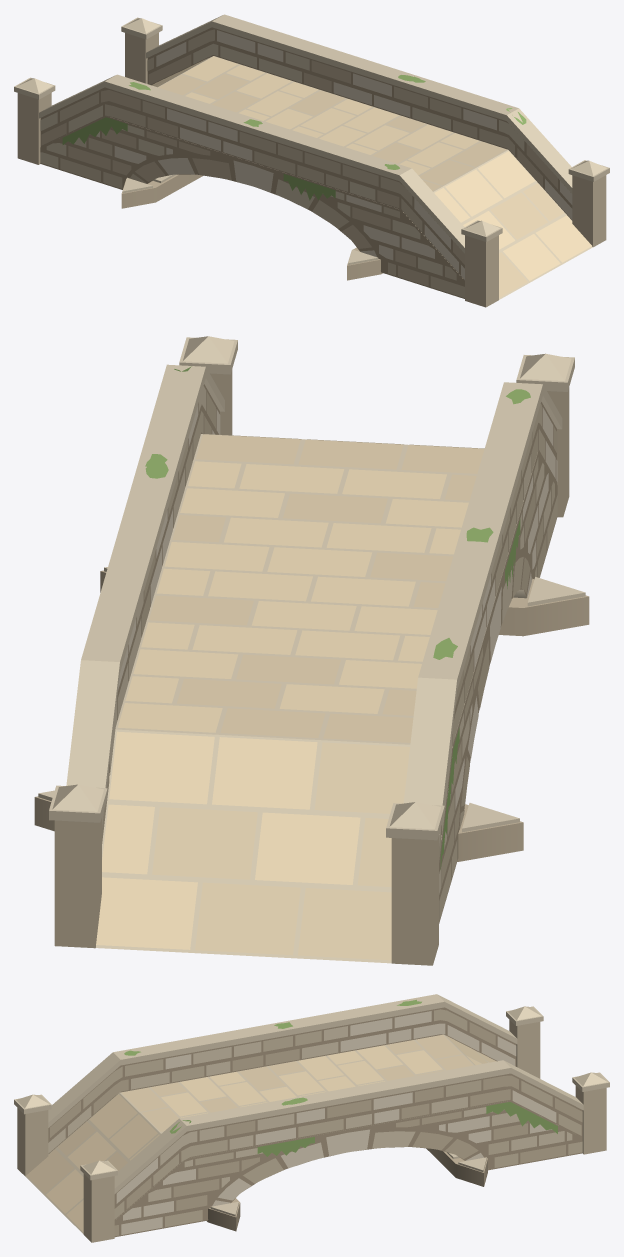
Rendered from stone-bridge.glb.
The picture shows the model from 3 angles, top to bottom: view 1: azimuth 30°, elevation 25°; view 2: azimuth 150°, elevation 25°; view 3: azimuth 270°, elevation 25°; orthographic projection. The views are drawn at different scales.
Parts seen in each view (by area): view 1: body; view 2: body; view 3: body.
Part boxes in pixels (x1,y1,x2,y2): body: (14, 14, 609, 307); body: (34, 336, 589, 965); body: (14, 994, 609, 1242).
Size of the model in its own units: 3.87 by 1.09 by 5.76.
